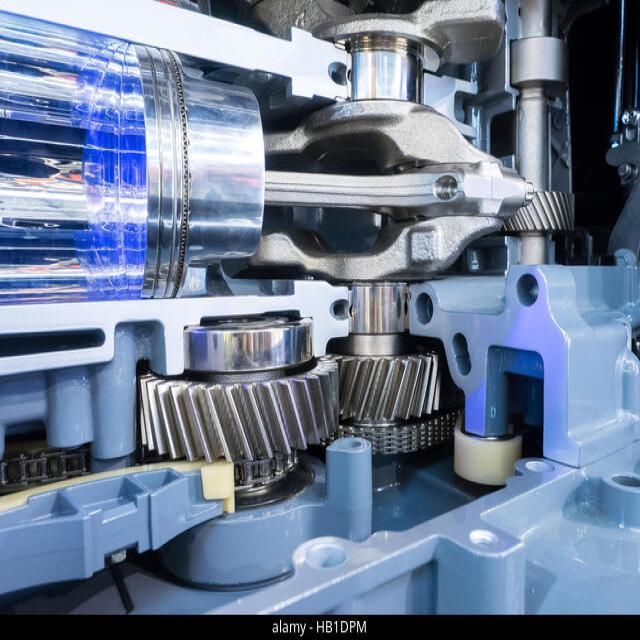Gear: (135, 352, 343, 467), (327, 343, 446, 425), (502, 190, 576, 235)
